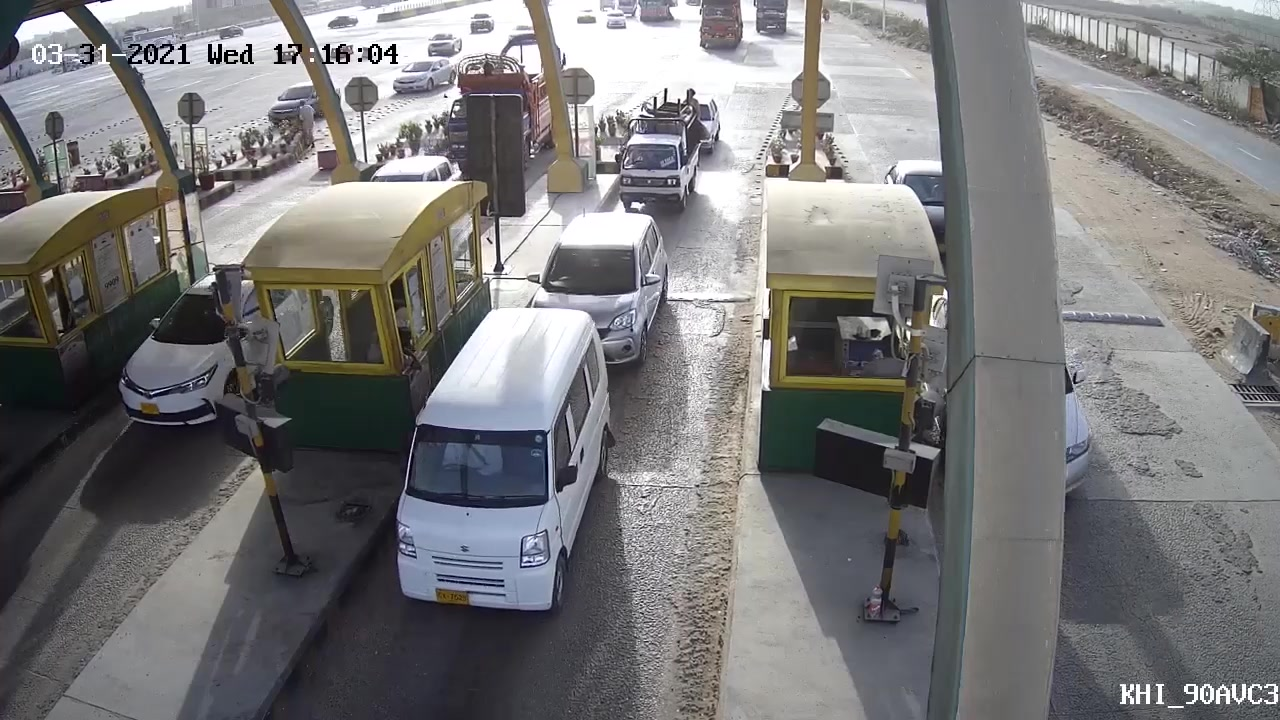F1: (387, 304, 612, 618), (539, 210, 667, 364)
